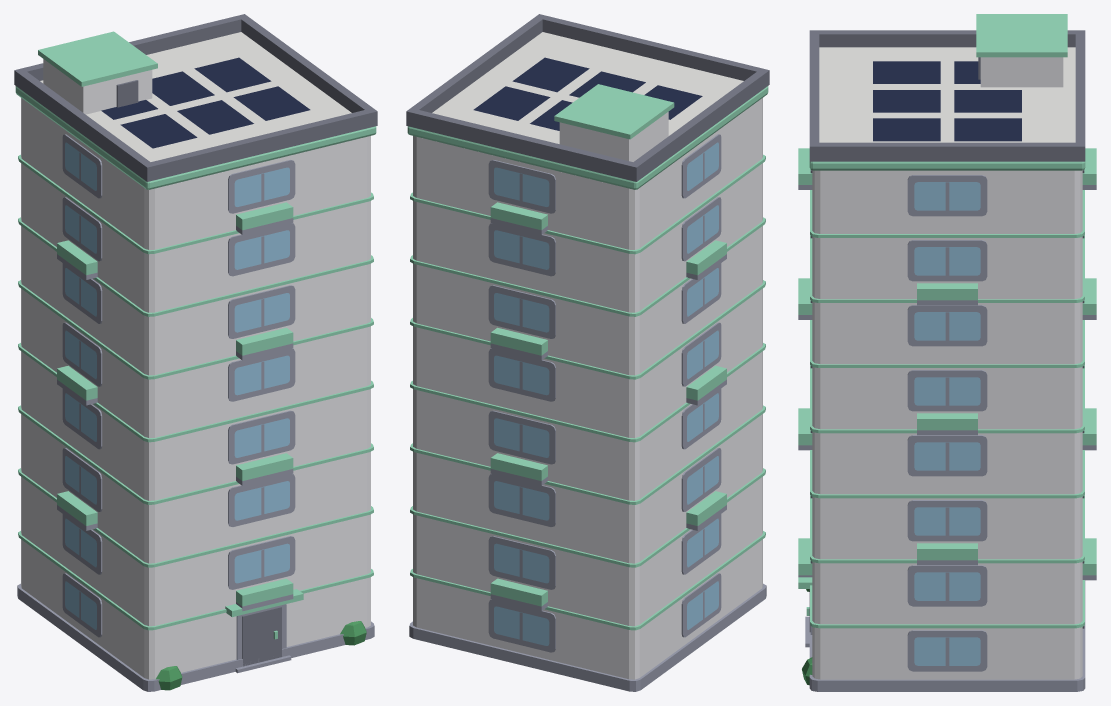
File: tower-1x1-8f-tone-a-solar.glb
3 renders of one model, left to right at view 1: azimuth 30°, elevation 25°; view 2: azimuth 150°, elevation 25°; view 3: azimuth 270°, elevation 25°, orthographic. The views are drawn at different scales.
Visible parts, largest first — view 1: tower-1x1-8f-tone-a-solar; view 2: tower-1x1-8f-tone-a-solar; view 3: tower-1x1-8f-tone-a-solar.
Boxes of the visible parts, <box> form: tower-1x1-8f-tone-a-solar: <box>14,14,377,691</box>; tower-1x1-8f-tone-a-solar: <box>406,14,769,691</box>; tower-1x1-8f-tone-a-solar: <box>798,14,1096,691</box>.
Bounding box in the file's own units: 1.08 × 2.28 × 1.08.
1 material, 1 textured.
